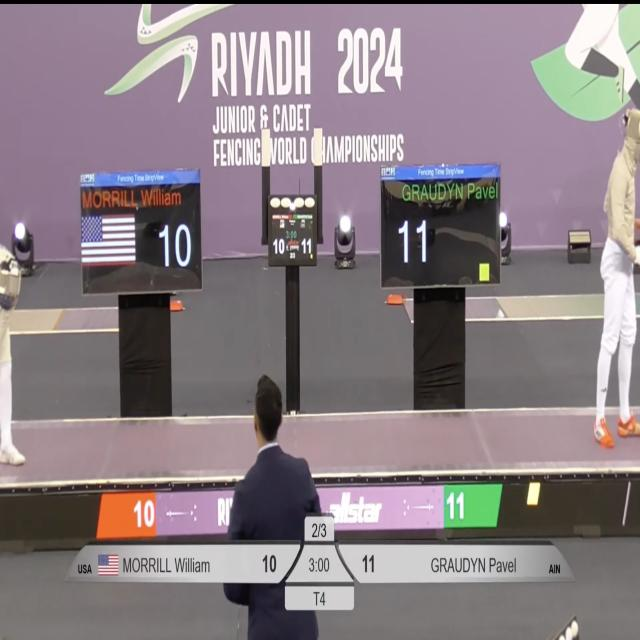fencer: (600, 105, 640, 449)
overlayLeft: (64, 541, 240, 584)
overlayRight: (389, 542, 576, 579)
scoreLeft: (245, 544, 302, 584)
scoreRight: (337, 544, 384, 583)
